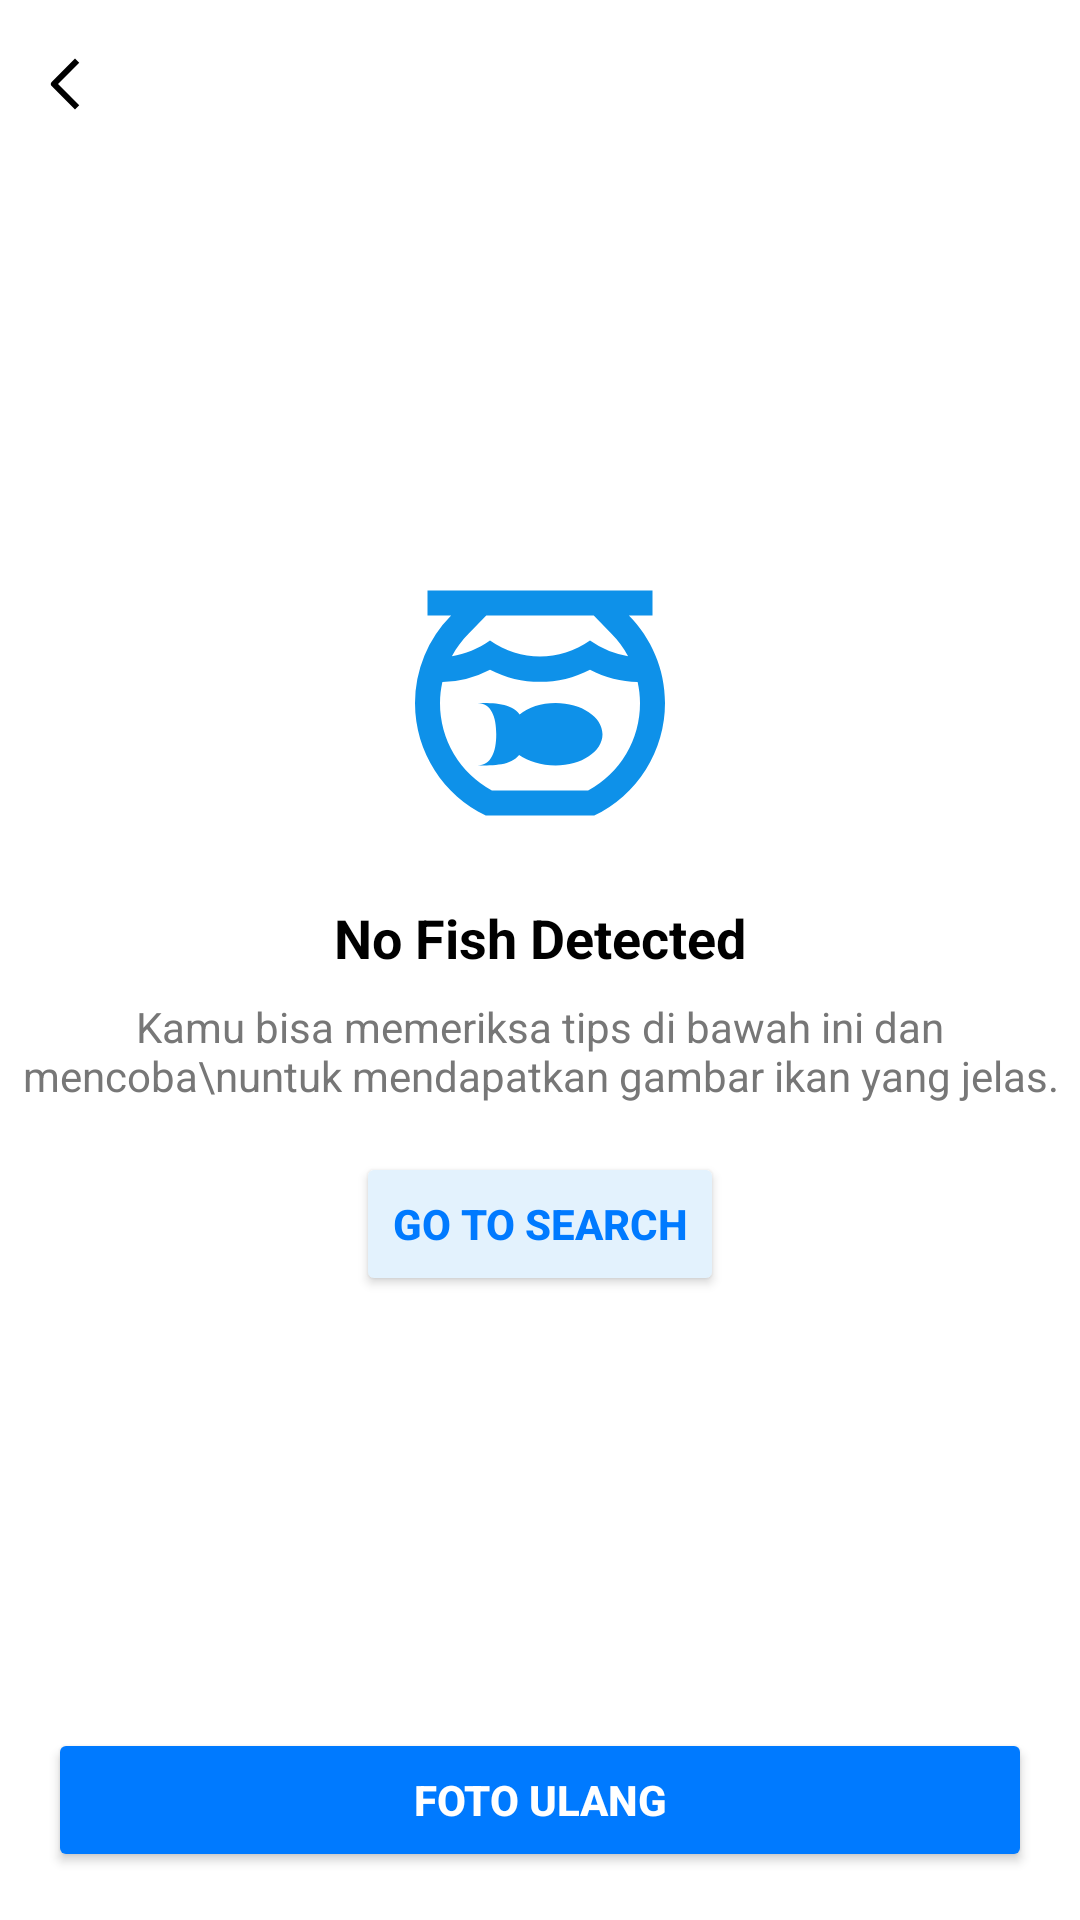

Named icons in this screenshot (1080x1920) and their bounding boxes, (x1, y1, x2, y2):
Back: (50, 58, 79, 110)
Empty Aquarium: (415, 590, 665, 816)
